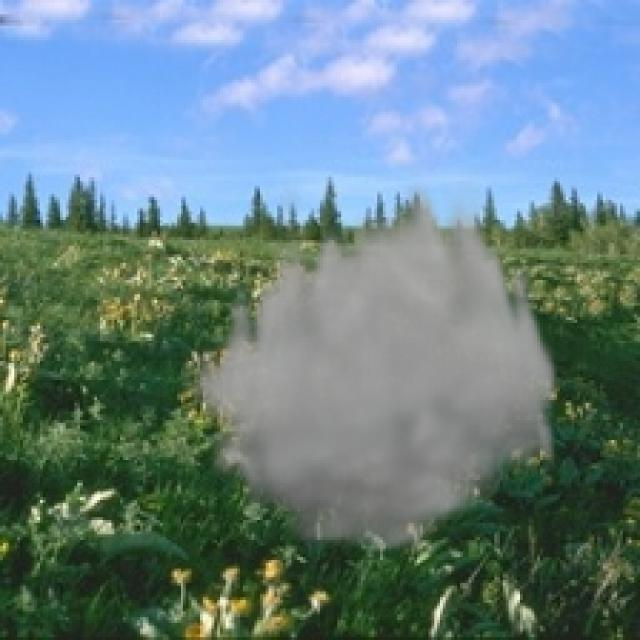smoke: (188, 171, 563, 560)
